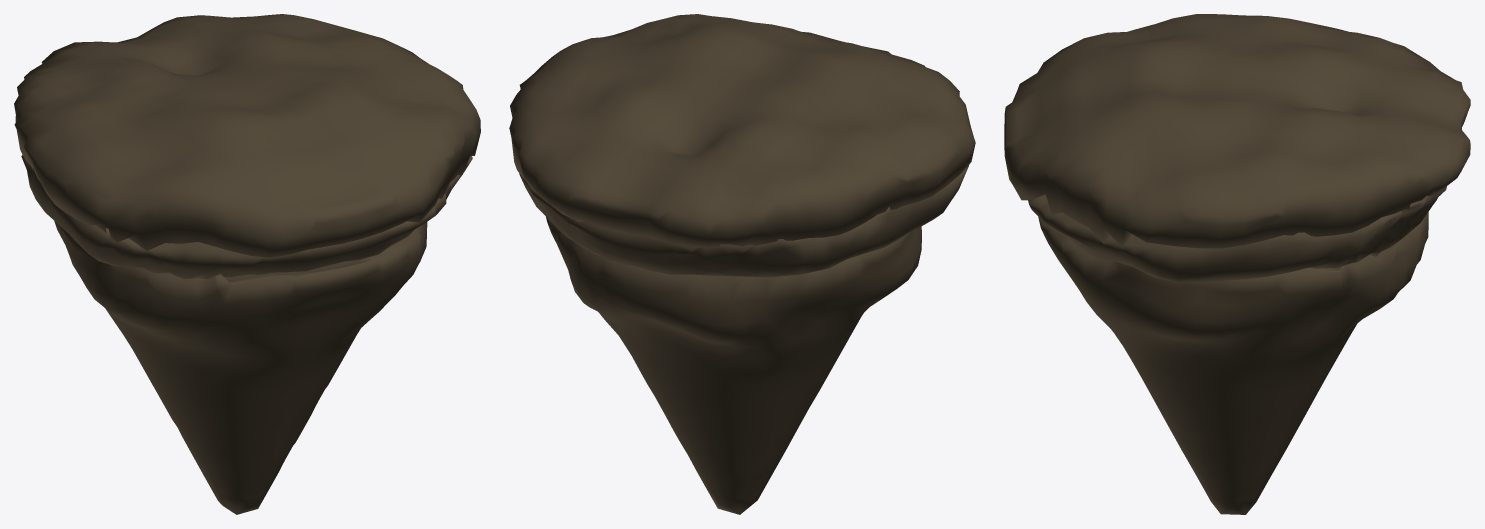
File: kazılacak.fbx
3 renders of one model, left to right at view 1: azimuth 30°, elevation 25°; view 2: azimuth 150°, elevation 25°; view 3: azimuth 270°, elevation 25°, orthographic.
Parts seen in each view (by area): view 1: Cone.002, Cone, Cone.001; view 2: Cone.002, Cone, Cone.001; view 3: Cone.002, Cone, Cone.001.
Boxes of the visible parts, bbox=[...] form: Cone.002: bbox=[14, 14, 480, 257]; Cone: bbox=[54, 221, 427, 514]; Cone.001: bbox=[21, 155, 472, 279]; Cone.002: bbox=[509, 14, 975, 248]; Cone: bbox=[546, 217, 921, 514]; Cone.001: bbox=[519, 165, 968, 277]; Cone.002: bbox=[1004, 14, 1470, 248]; Cone: bbox=[1038, 212, 1428, 514]; Cone.001: bbox=[1028, 186, 1446, 283].
Size of the model in its own units: 203 by 209 by 203.
